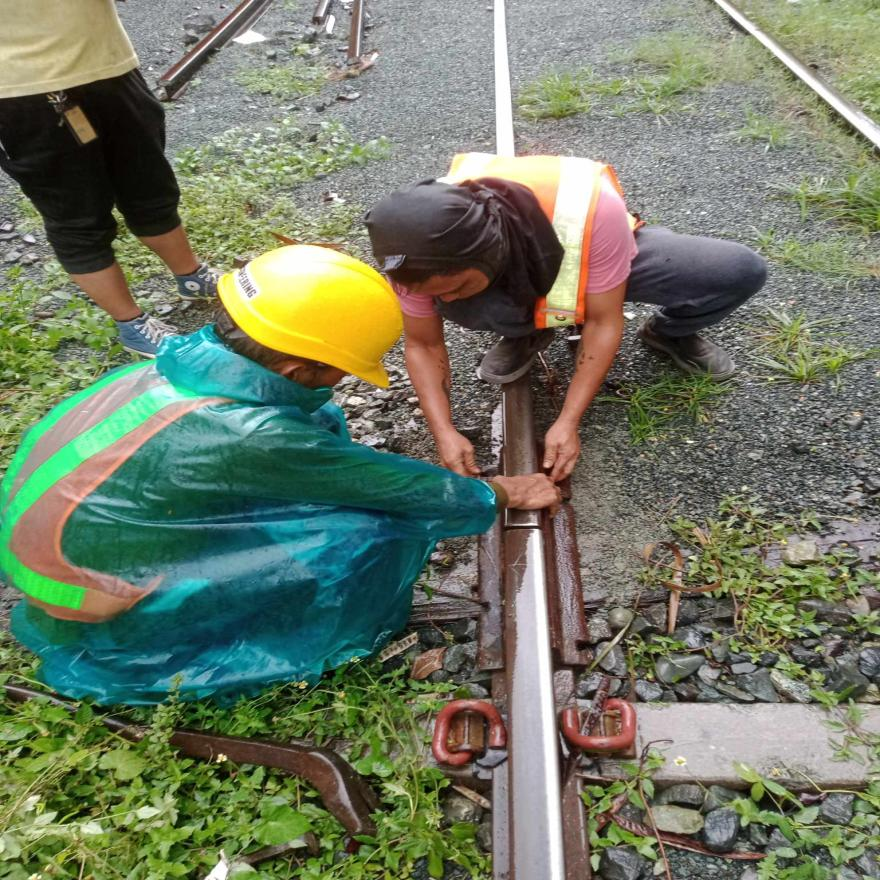railway-gap: (480, 503, 564, 557)
